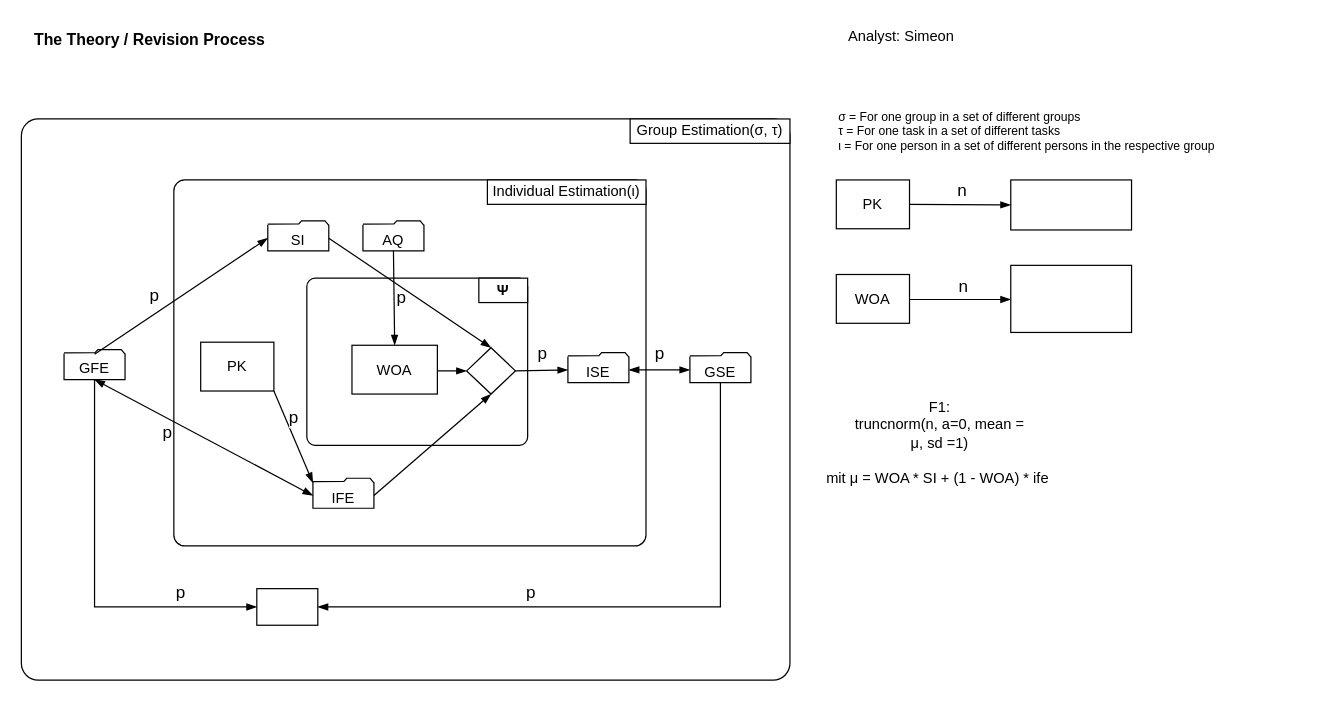
The diagram is 1321 pixels wide and 702 high, and some of its shapes have lost their labels. Each missing label, with the centre of its shape:
"A persons prior knowledge": (1071,204)
"The weight a person puts on advice (=social information)": (1071,298)
ACC: (287,606)
F1: (490,370)
